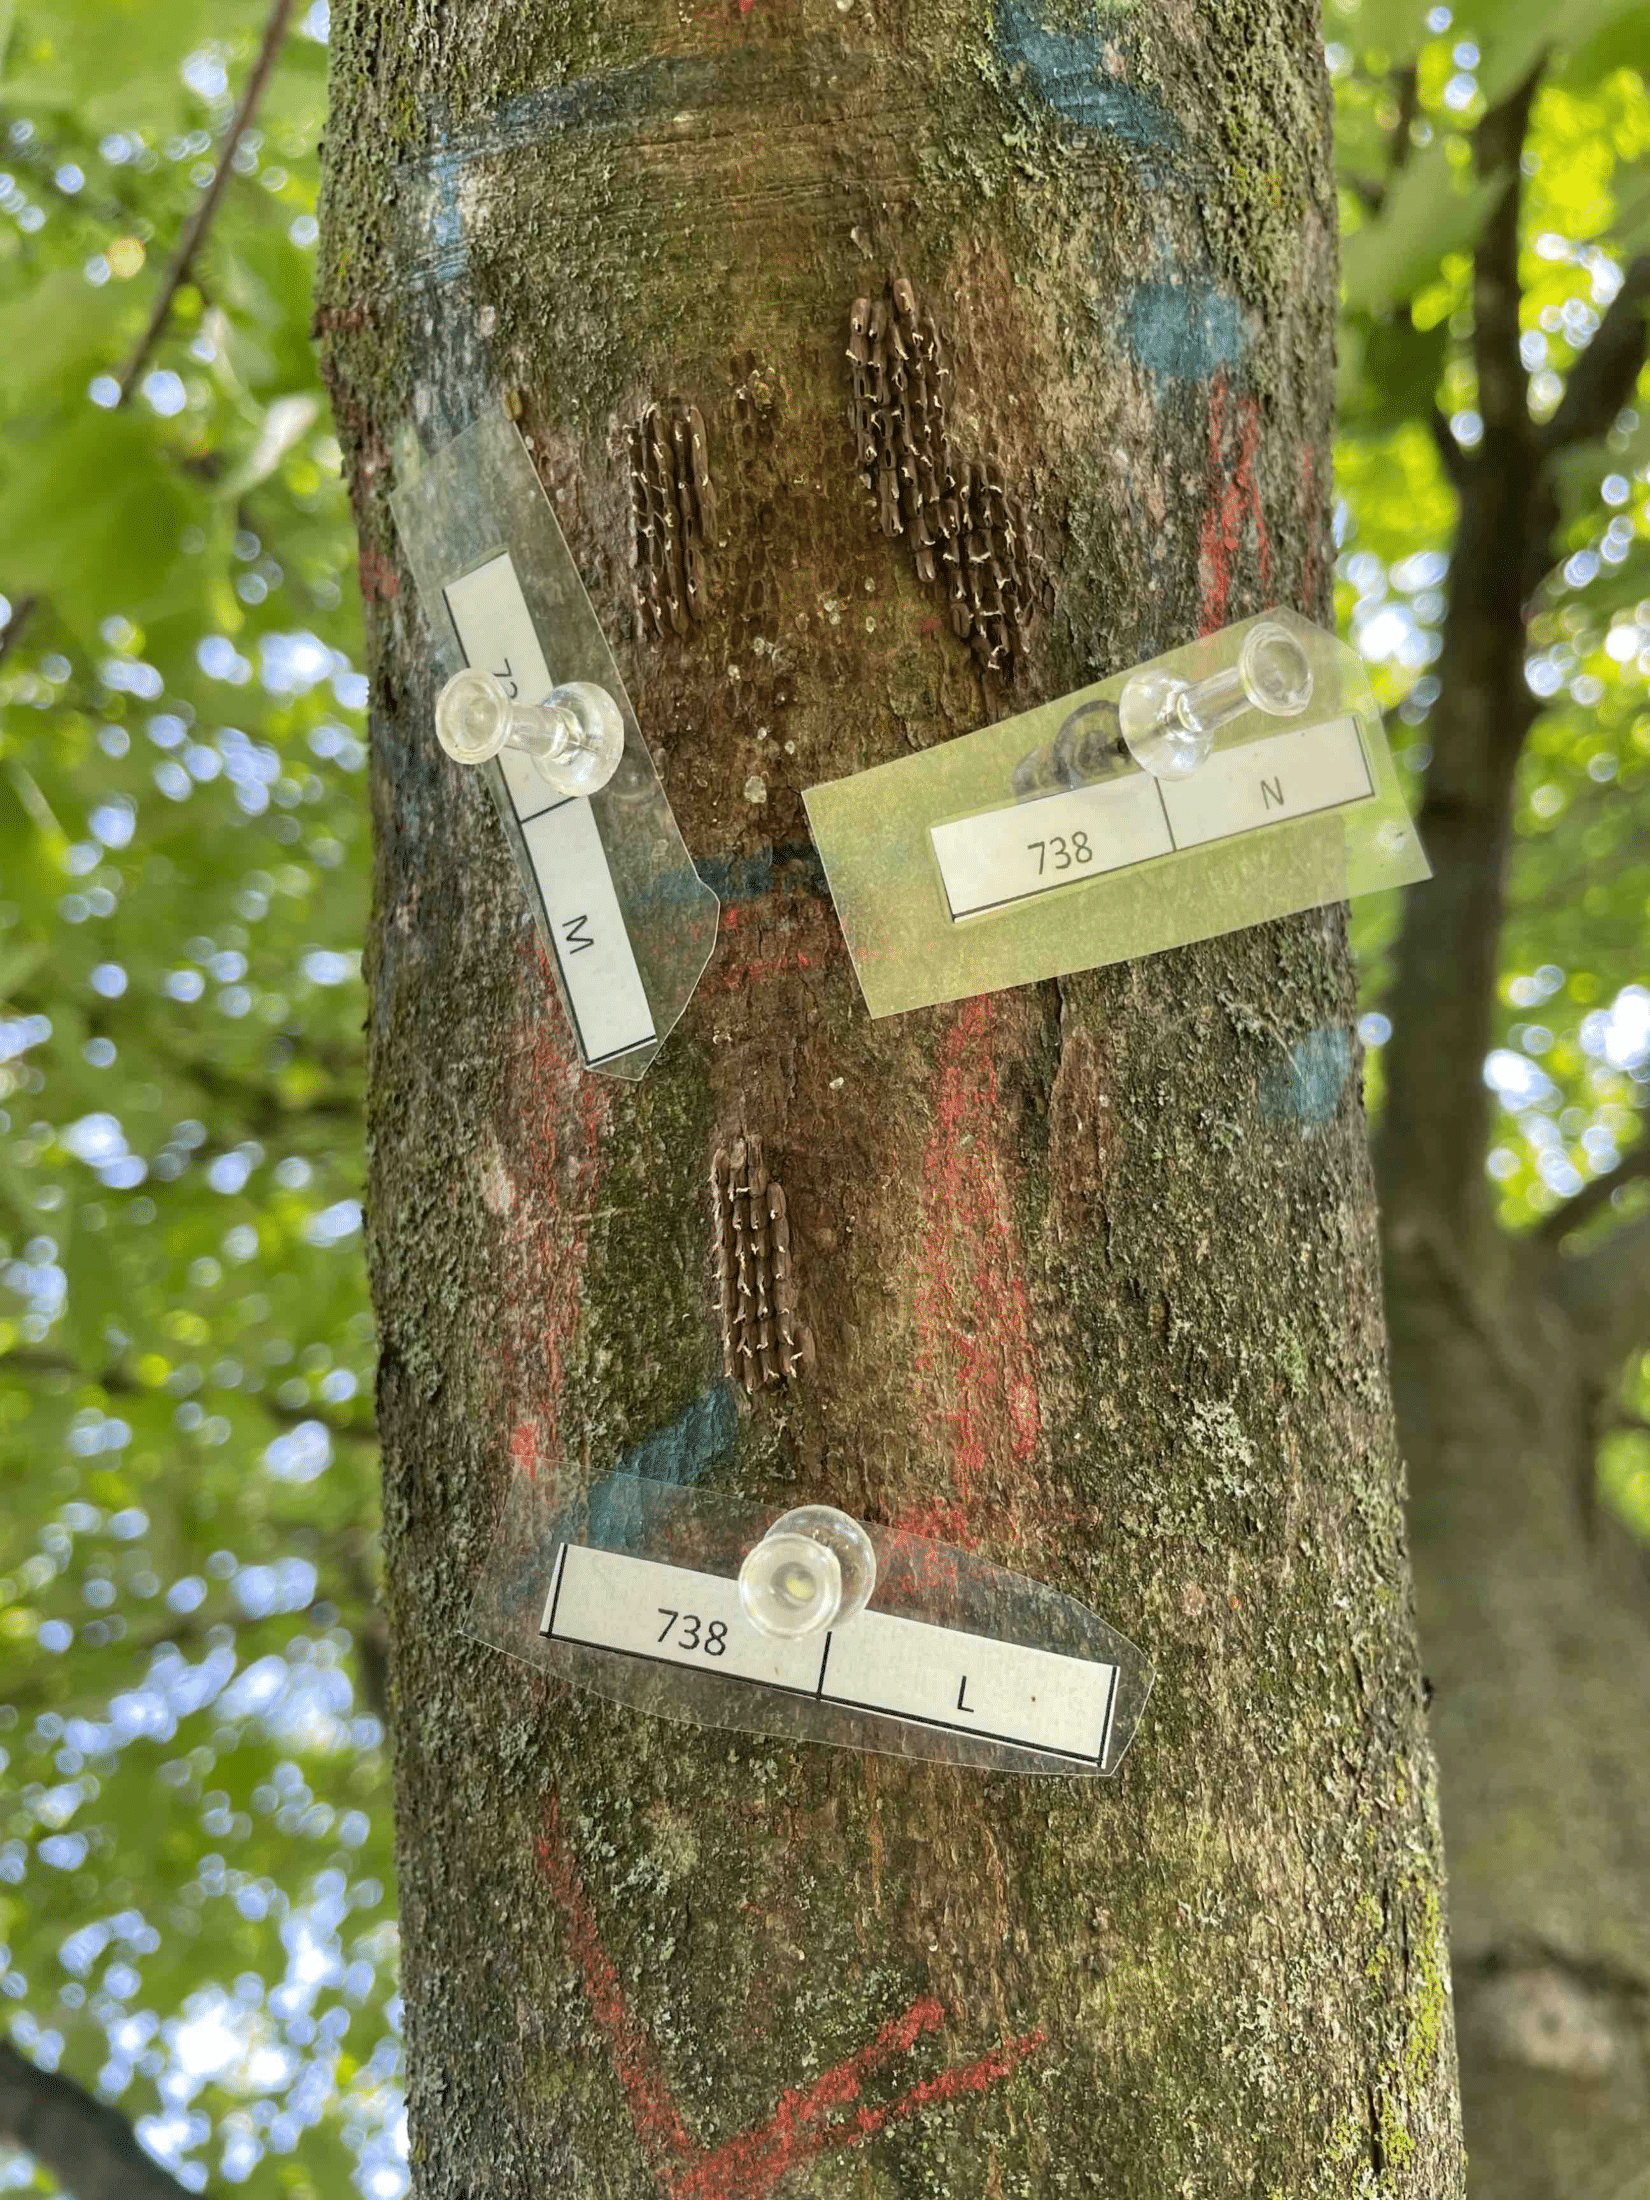egg masses: (811, 281, 1059, 658), (700, 1143, 796, 1431), (614, 407, 705, 625)
